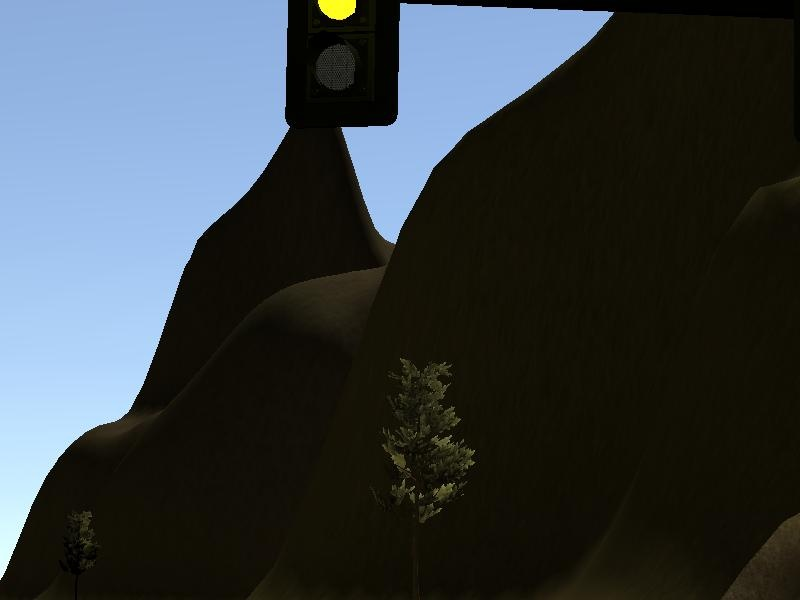yellow: (279, 1, 401, 132)
